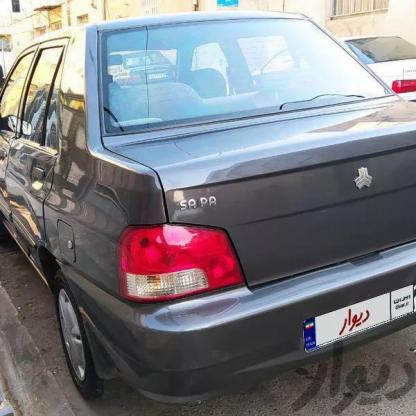Car: (0, 0, 416, 416), (253, 20, 416, 127), (113, 51, 176, 84)
